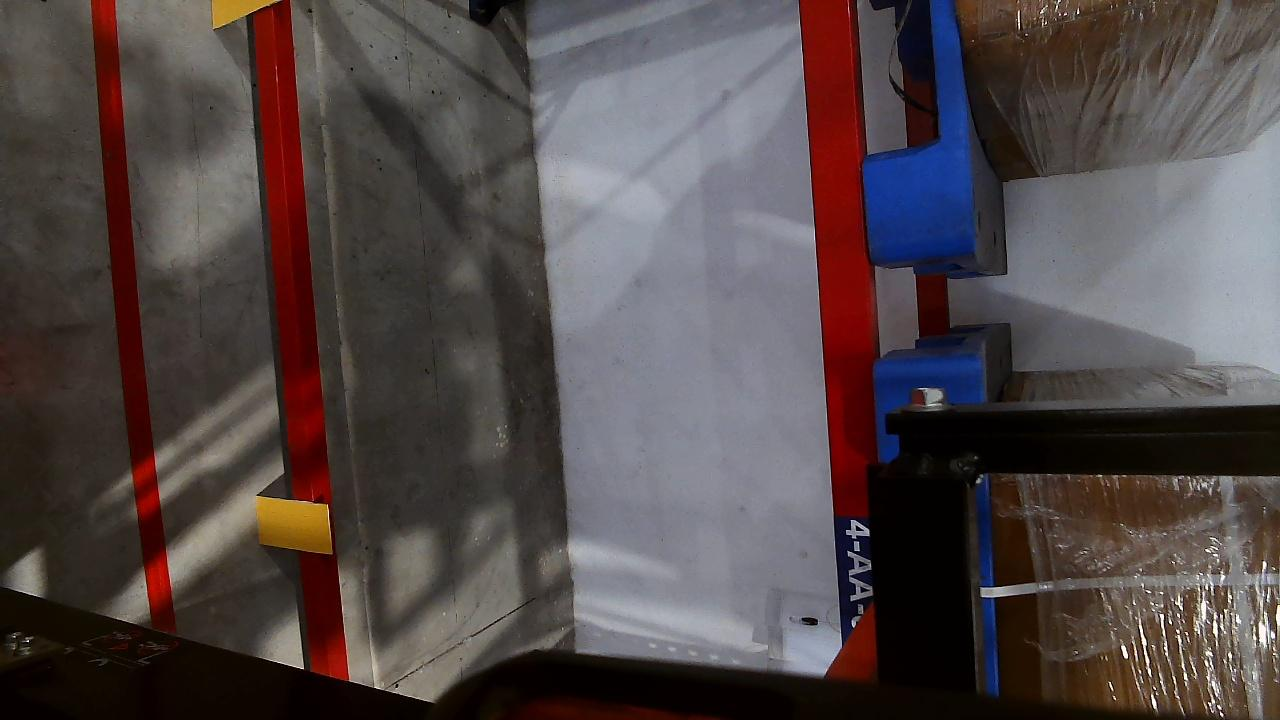h_rack: (252, 7, 347, 683), (798, 0, 880, 629)
orange_strip: (255, 497, 332, 555), (212, 0, 278, 27)
red_line: (90, 0, 164, 605)
small_pallet: (850, 1, 979, 257)
